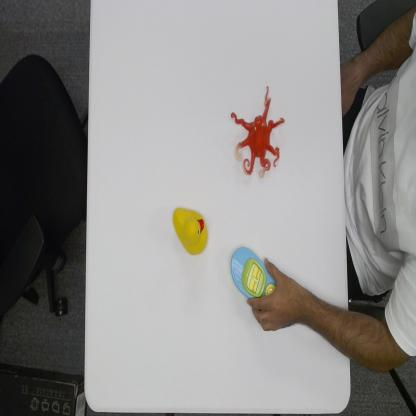Arm: (306, 280, 401, 372)
Boat: (230, 246, 277, 297)
Duck: (172, 205, 209, 256)
Hand: (246, 257, 303, 334)
Octopus: (230, 84, 286, 181)
